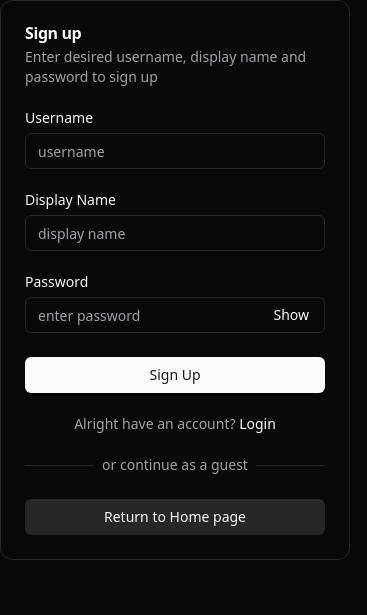
displays an error from API response
The image size is (367, 615).
Note: Simulate user input
Step 1. Type "testuser" into the field labelled "Username" → (175, 151), box [25,133,325,169]
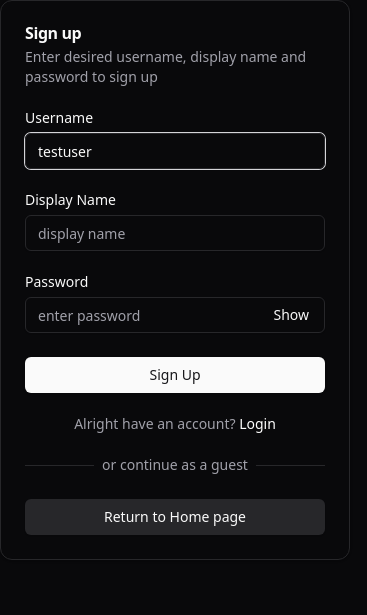
Step 2. Type "Test User" into the field labelled "Display Name" → (175, 233), box [25,215,325,251]
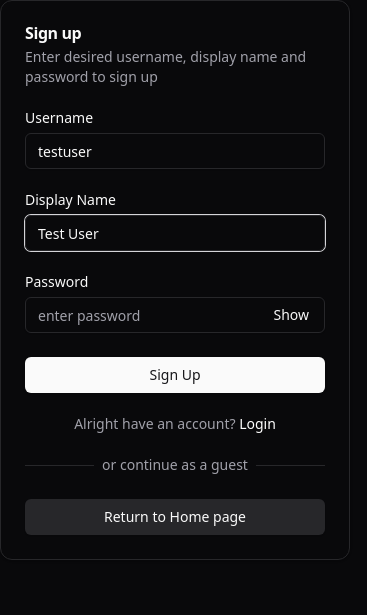
Step 3. Type "password123" into the password field labelled "Password" → (175, 315), box [25,297,325,333]
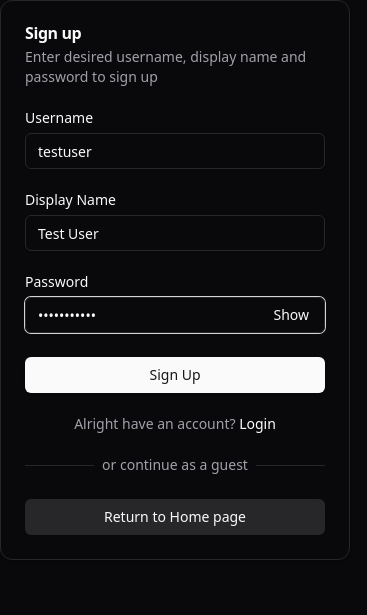
Note: Submit the form
Step 4. Click the button "Sign Up" → (175, 375), box [25,357,325,393]
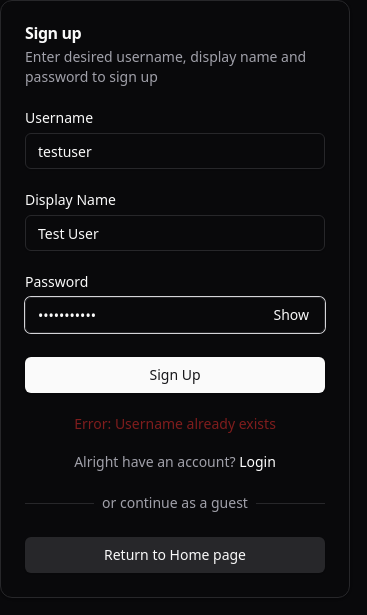
Check: the text "Error: Username already exists" is shown, box [74,414,276,433]
